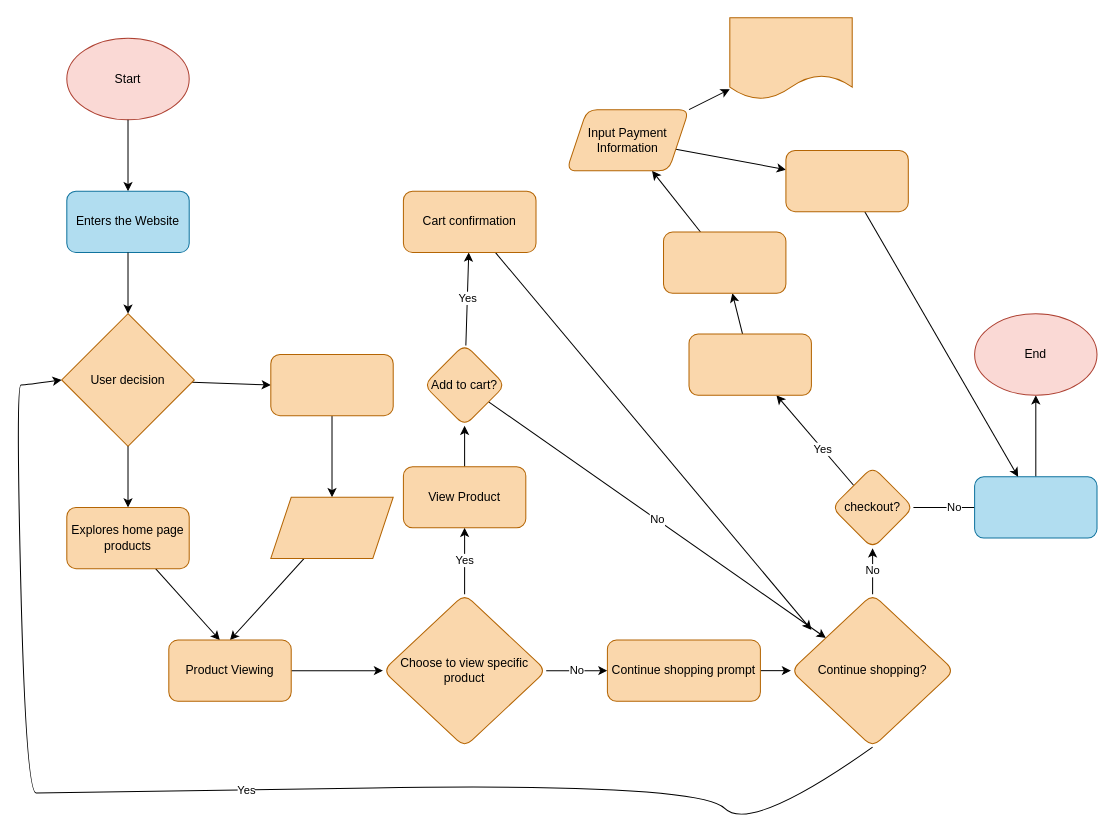
Image size: 1115x832. Some labels were removed from this diagram. The shapes that lost their labels are listed below. From the top down, each one's centre as x and y in pixels, then its label:
pixel 790 58: Email Confirmation
pixel 846 180: Order Confirmation
pixel 724 262: View Payment
pixel 331 384: Searches for product
pixel 749 364: View Cart
pixel 331 527: User search input
pixel 1035 507: Leave Website
